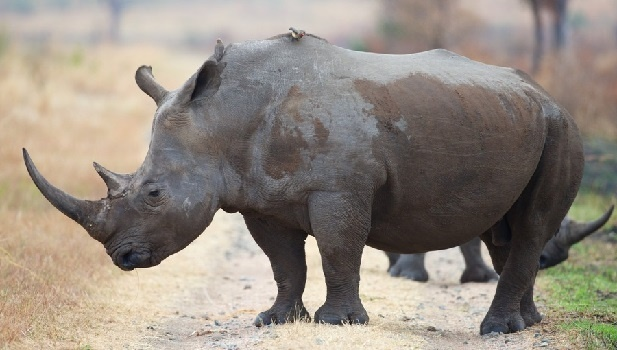rhino: (22, 24, 586, 335)
